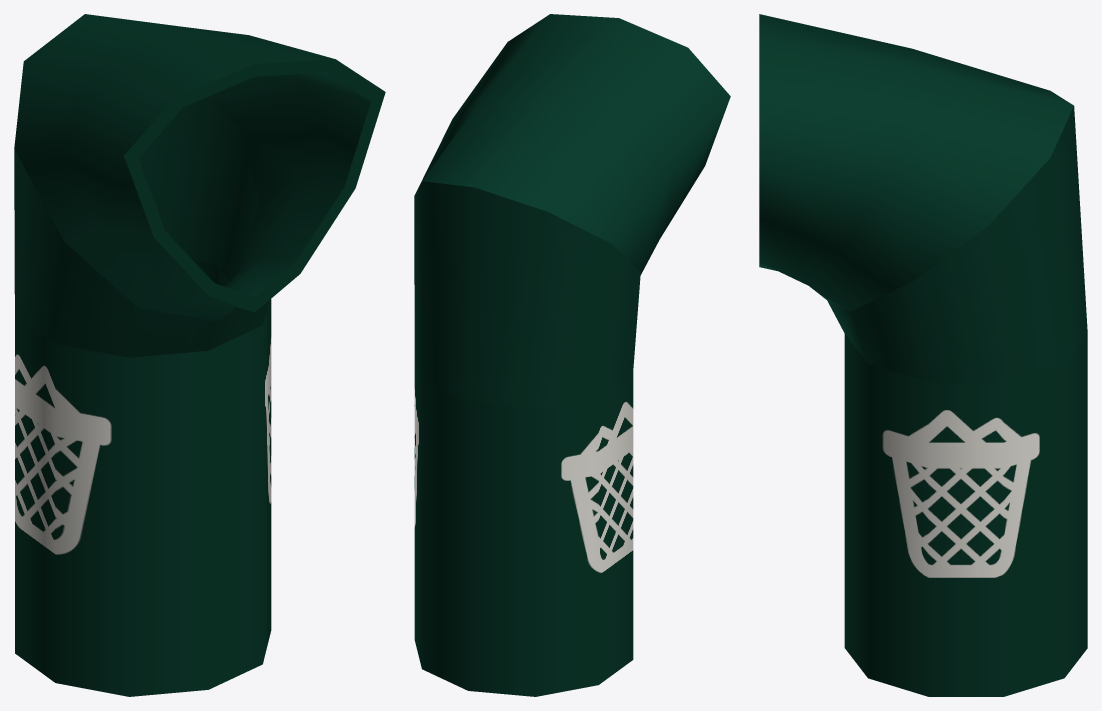
The model's file is trash_can_a_01.FBX.
The picture shows the model from 3 angles, left to right: view 1: azimuth 30°, elevation 25°; view 2: azimuth 150°, elevation 25°; view 3: azimuth 270°, elevation 25°; orthographic projection. The views are drawn at different scales.
Visible parts, largest first — view 1: trash_can_a_01; view 2: trash_can_a_01; view 3: trash_can_a_01.
Part boxes in pixels (bbox=[...]): trash_can_a_01: bbox=[14, 14, 385, 696]; trash_can_a_01: bbox=[414, 14, 730, 696]; trash_can_a_01: bbox=[759, 14, 1087, 696].
Bounding box in the file's own units: 54.29 × 131 × 63.64.
